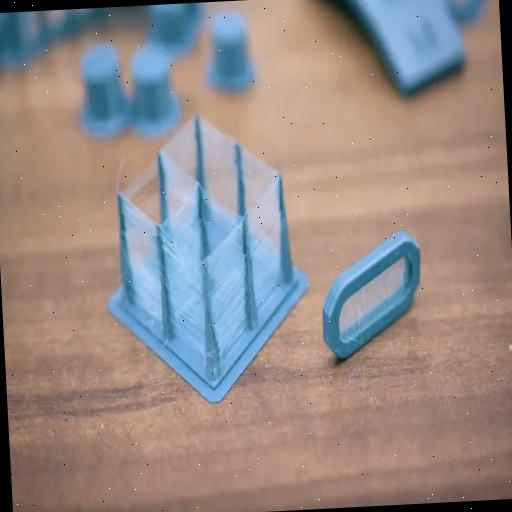stringing: (206, 182, 279, 361), (160, 230, 205, 359), (119, 197, 162, 322), (200, 186, 245, 301), (340, 259, 408, 328), (161, 154, 200, 272), (161, 116, 200, 221), (123, 159, 162, 263), (201, 119, 238, 225), (242, 146, 278, 254)
